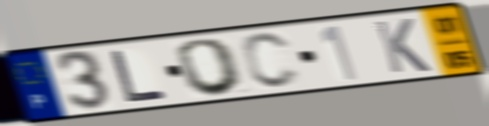1: (319, 24, 360, 82)
3: (57, 48, 111, 114)
C: (239, 30, 304, 91)
K: (371, 16, 434, 75)
L: (106, 47, 171, 105)
O: (174, 36, 248, 98)
